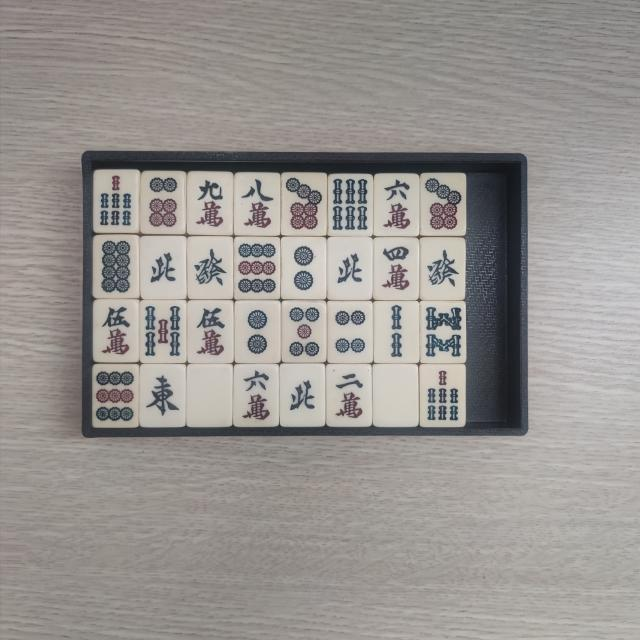hdg: (192, 241, 232, 297), (426, 244, 463, 298)
hdw: (191, 369, 229, 424), (378, 368, 414, 424)
hwe: (143, 369, 181, 424)
hwn: (143, 241, 182, 296), (332, 242, 369, 296), (285, 370, 322, 423)
sb2: (377, 302, 416, 360)
sb5: (142, 302, 182, 360)
sb6: (330, 176, 370, 232)
sb7: (96, 172, 136, 229), (424, 368, 461, 424)
sb8: (423, 303, 464, 360)
sc2: (332, 368, 368, 422)
sc4: (378, 242, 415, 296)
sc5: (192, 305, 230, 361), (98, 302, 134, 358)
sc6: (239, 368, 276, 423), (378, 175, 414, 231)
sc8: (238, 176, 278, 232)
sc9: (191, 173, 229, 230)
sd2: (286, 240, 324, 296), (239, 304, 277, 359)
sd4: (332, 303, 370, 358)
sd5: (284, 304, 322, 359)
sd6: (144, 173, 182, 229)
sd7: (284, 176, 324, 233), (425, 178, 465, 234)
sd8: (98, 238, 136, 294)
sd9: (94, 368, 138, 426), (237, 242, 278, 298)
